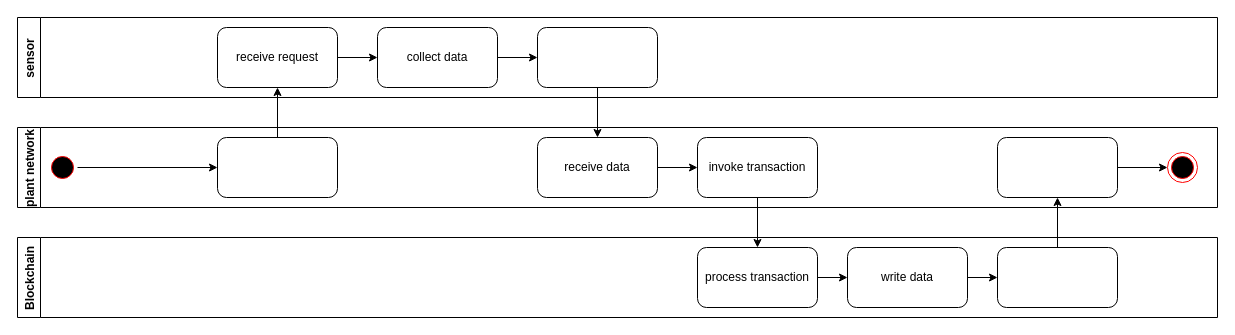
The diagram is 1235 pixels wide and 335 high, and some of its shapes have lost their labels. The shapes that lost their labels are listed below. From the top down, each one's box as (x1, y1, x2, y2) in pixels, then its label:
(536, 26, 658, 88): send data
(216, 136, 338, 198): request drift and precision
(996, 136, 1118, 198): process response
(996, 246, 1118, 308): create response
